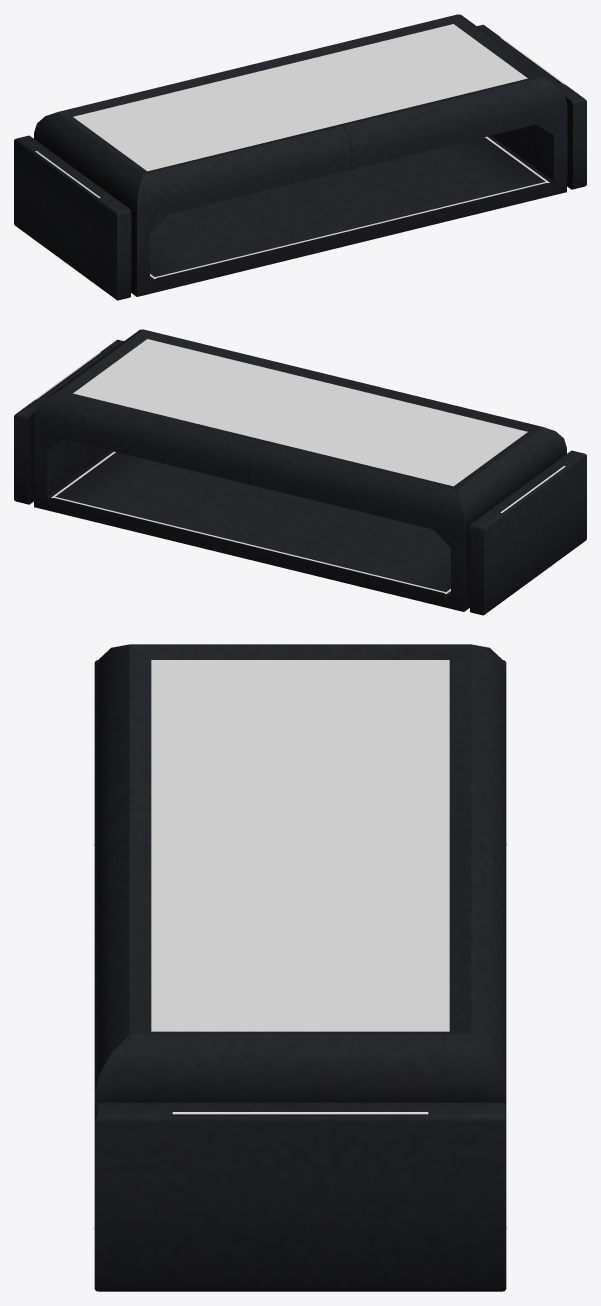
File: table-v1.glb
3 renders of one model, top to bottom at view 1: azimuth 30°, elevation 25°; view 2: azimuth 150°, elevation 25°; view 3: azimuth 270°, elevation 25°, orthographic. The views are drawn at different scales.
Visible parts, largest first — view 1: table_model, table_glass, table_led_cyan; view 2: table_model, table_glass, table_led_cyan; view 3: table_model, table_glass.
Part boxes in pixels (x1,y1,x2,y2): table_model: (14, 14, 586, 300); table_glass: (73, 24, 527, 171); table_led_cyan: (35, 37, 565, 277); table_model: (14, 329, 586, 615); table_glass: (73, 339, 527, 486); table_led_cyan: (35, 352, 565, 592); table_model: (94, 644, 506, 1291); table_glass: (151, 660, 449, 1031).
Bounding box in the file's own units: 2 × 0.4574 × 0.7633.
4 materials, 1 textured.
